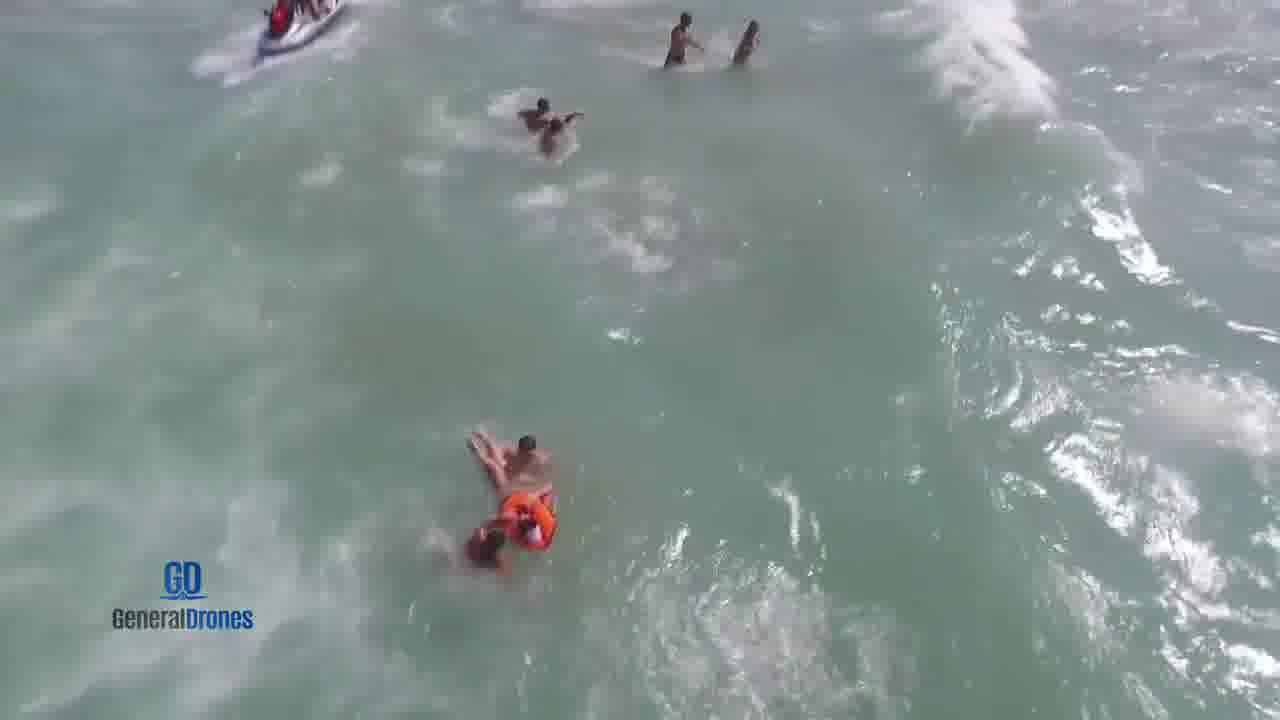swimmer: (456, 426, 558, 539), (451, 518, 520, 577), (500, 414, 558, 479), (504, 82, 580, 125), (536, 113, 584, 155)
